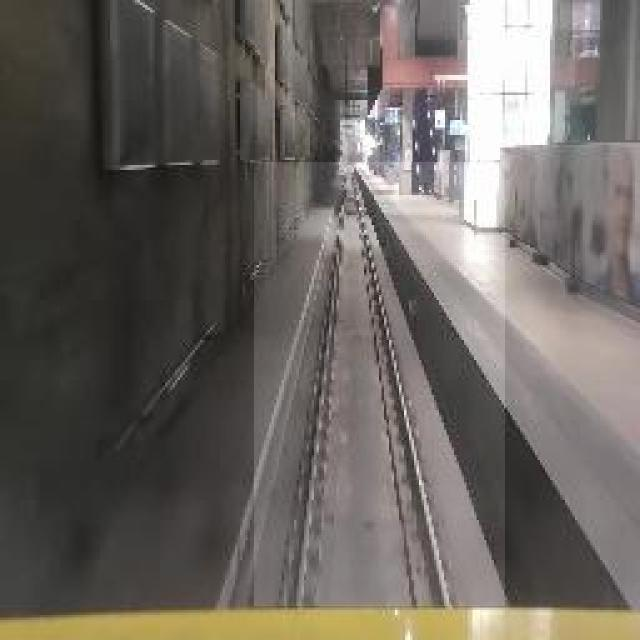rail: (256, 164, 506, 607)
